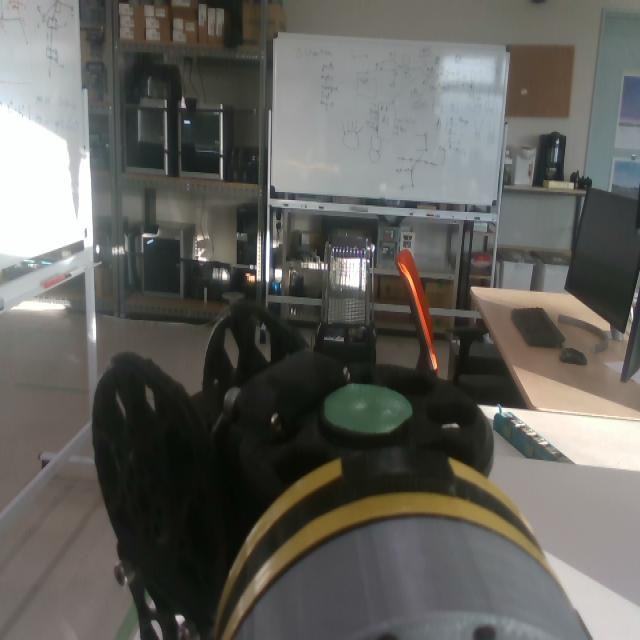body_connector: (228, 515, 588, 640)
connection: (214, 447, 592, 640)
leg: (93, 305, 547, 640)
leg_connector: (209, 448, 548, 636)
marker: (322, 385, 411, 434)
